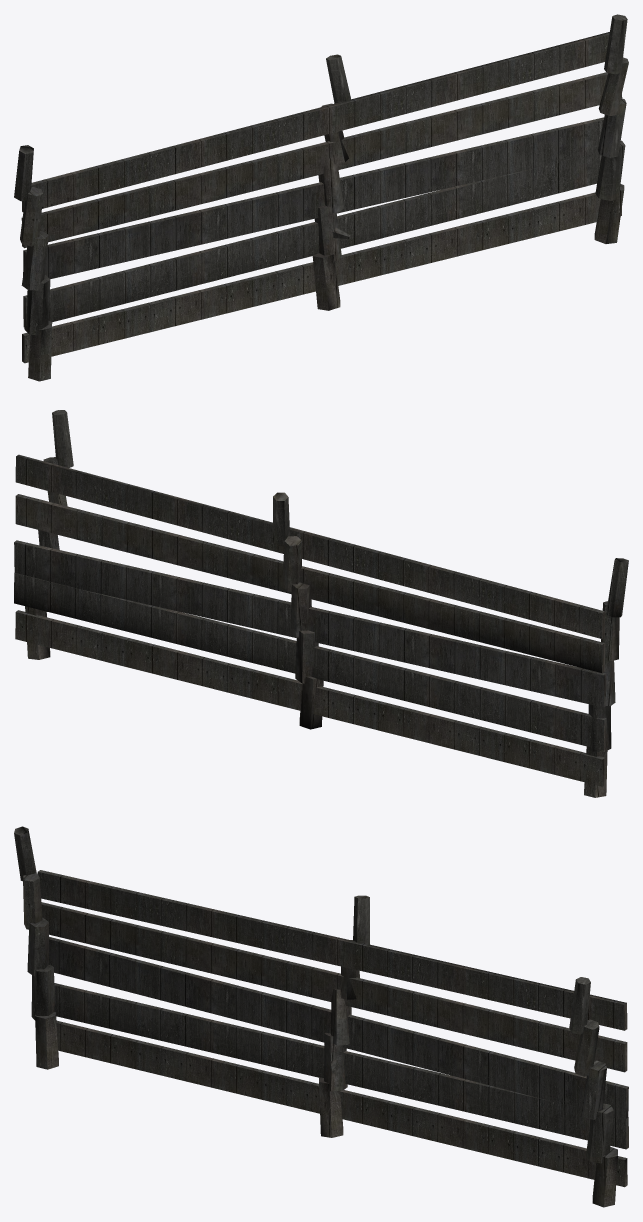
File: plank.glb
3 renders of one model, top to bottom at view 1: azimuth 30°, elevation 25°; view 2: azimuth 150°, elevation 25°; view 3: azimuth 330°, elevation 25°, orthographic.
Visible parts, largest first — view 1: plank; view 2: plank; view 3: plank.
Boxes of the visible parts, <box> form: plank: <box>14,14,628,381</box>; plank: <box>14,410,628,797</box>; plank: <box>14,826,628,1207</box>.
Size of the model in its own units: 4.3 by 1.61 by 0.4749.
Materials: 1 (1 with a texture image).
